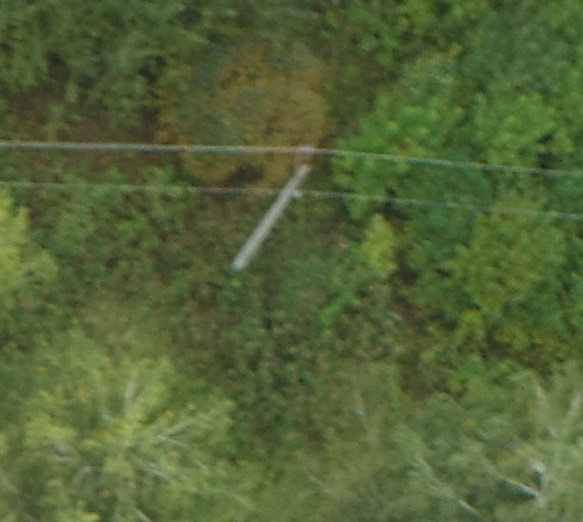opora: (232, 143, 323, 271)
